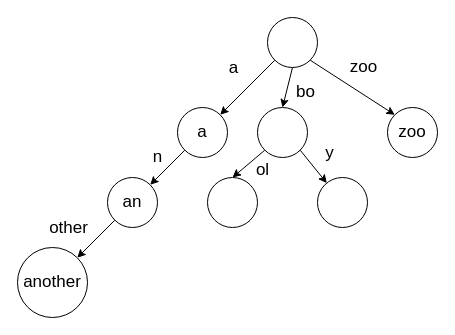
The diagram is 455 pixels wide and 335 high, and some of its shapes have lost their labels. The centre of each missing label's shape, as x and y in pixels:
bool: [232,202]
boy: [342,202]
